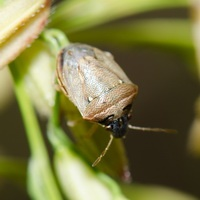insect: (56, 43, 137, 137)
